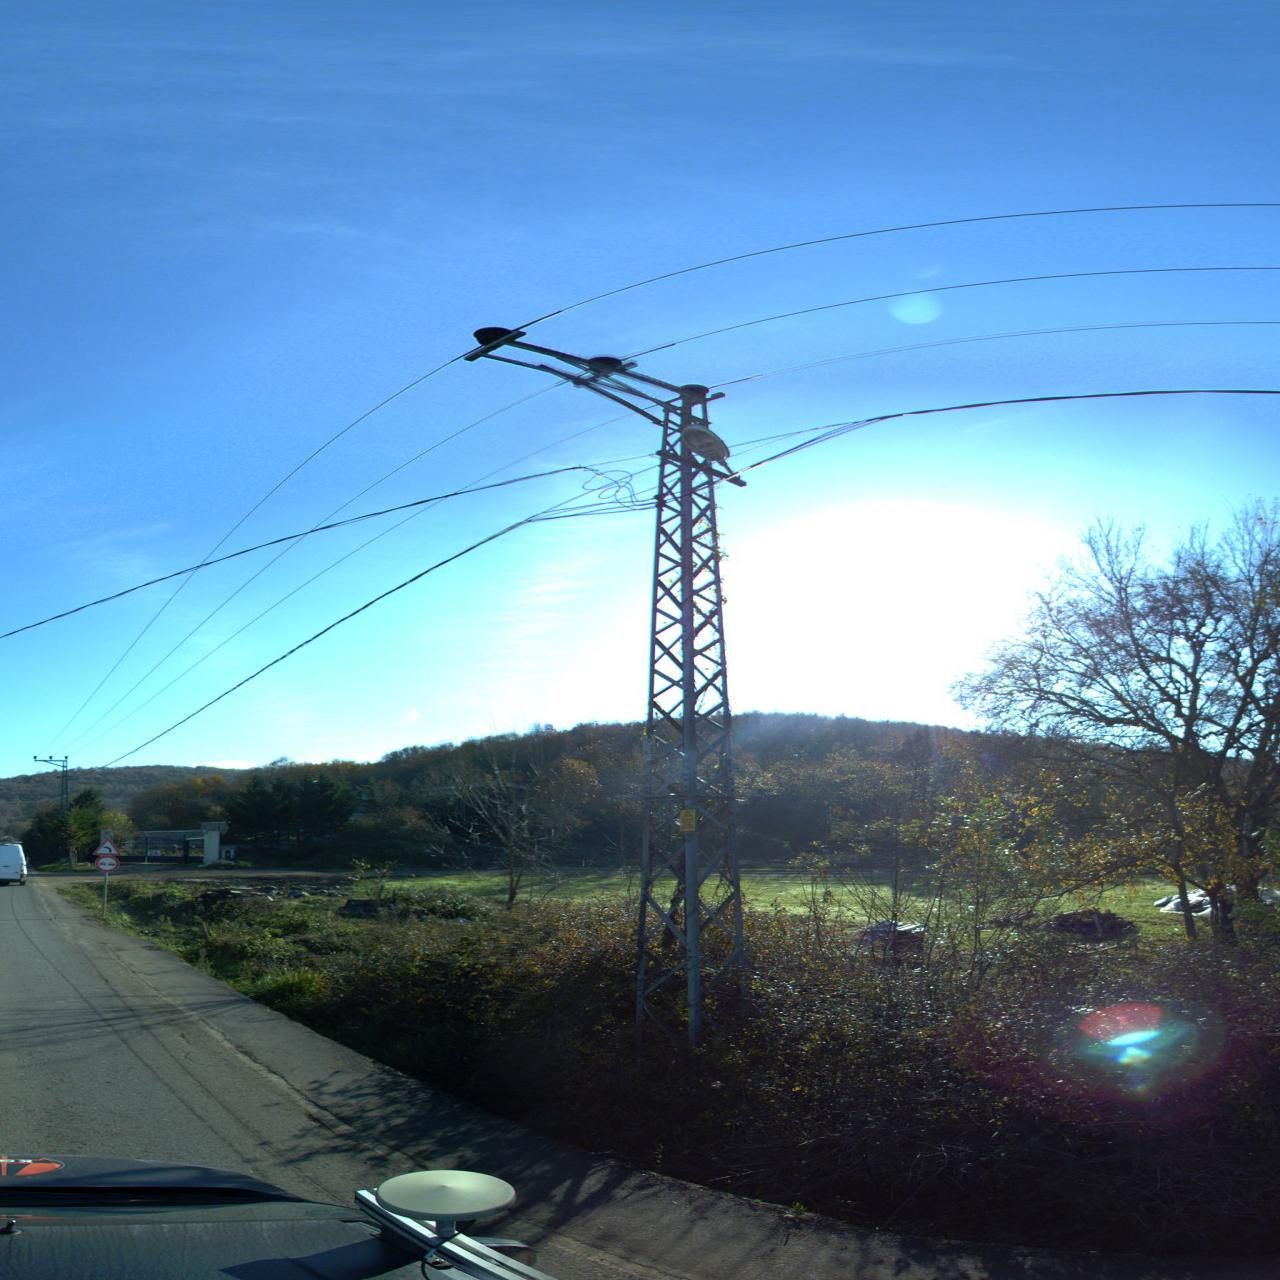Utility Pole Information Plate: (676, 806, 699, 833)
